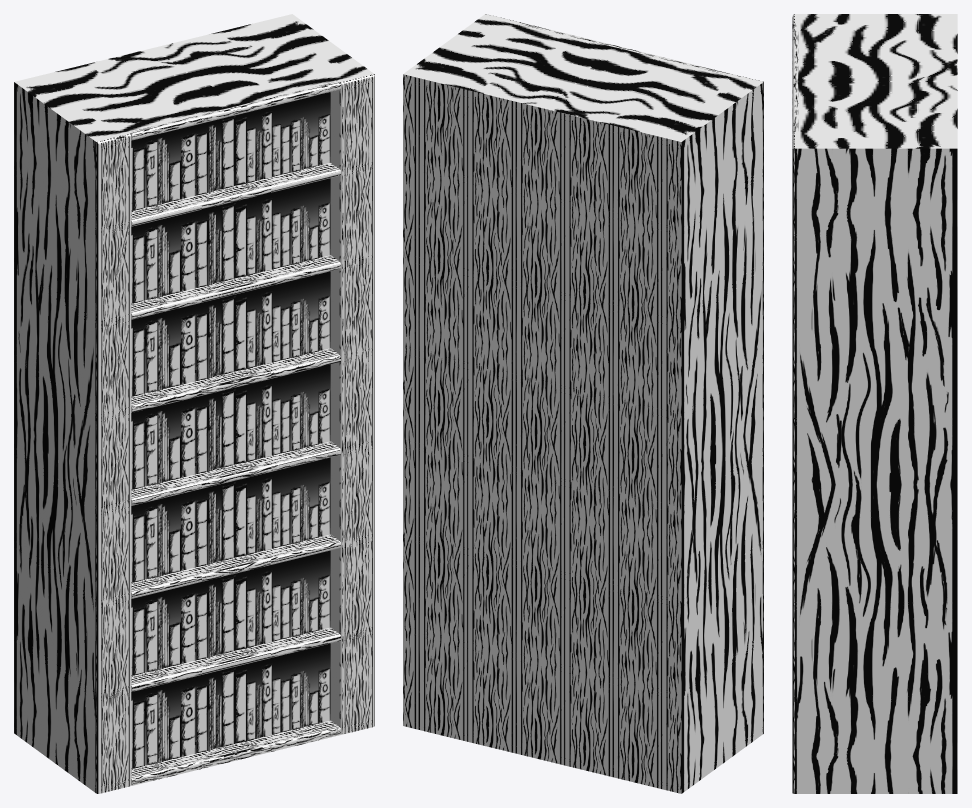
The model's file is bookshelf.fbx.
The picture shows the model from 3 angles, left to right: view 1: azimuth 30°, elevation 25°; view 2: azimuth 150°, elevation 25°; view 3: azimuth 270°, elevation 25°; orthographic projection.
Visible parts, largest first — view 1: BookShelf; view 2: BookShelf; view 3: BookShelf.
Boxes of the visible parts, <box> form: BookShelf: <box>14,14,374,793</box>; BookShelf: <box>403,14,763,793</box>; BookShelf: <box>792,14,957,793</box>.
Size of the model in its own units: 160 by 358 by 83.
2 materials, 2 textured.
